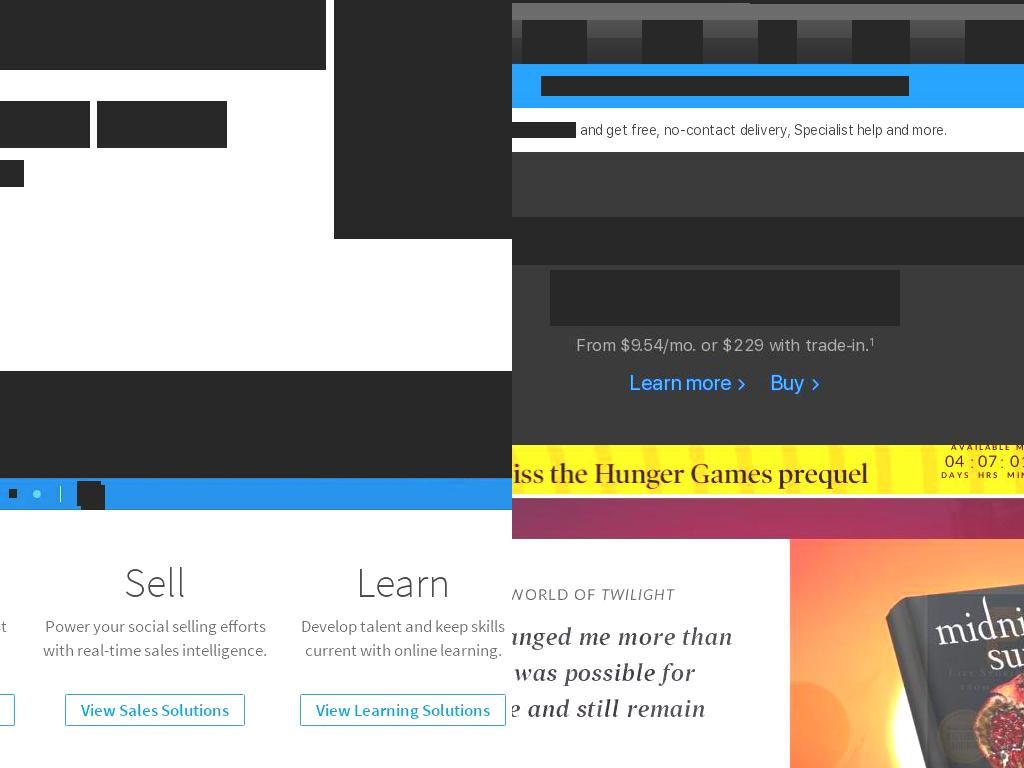button: (512, 497, 1024, 768), (512, 445, 1024, 495), (541, 76, 909, 96), (300, 694, 506, 726), (97, 101, 227, 148), (65, 694, 245, 726), (522, 20, 587, 64), (642, 20, 703, 64), (965, 20, 1024, 64), (852, 20, 910, 64), (758, 20, 797, 64), (0, 160, 24, 187), (77, 481, 101, 506), (9, 489, 17, 498), (33, 489, 41, 498)
field: (0, 101, 90, 148)
heading: (512, 217, 1024, 265), (0, 0, 326, 70), (550, 270, 900, 326), (113, 110, 211, 139)
image: (334, 0, 512, 239), (0, 371, 512, 445), (0, 382, 512, 445), (0, 318, 512, 364), (81, 485, 105, 510)
link: (629, 369, 747, 395), (770, 369, 820, 395), (601, 587, 675, 603), (512, 122, 577, 138), (969, 451, 978, 474), (999, 451, 1008, 474), (869, 335, 875, 348)
text: (0, 510, 512, 768), (512, 267, 1024, 445), (512, 618, 734, 763), (512, 445, 913, 494), (39, 558, 271, 606), (39, 614, 271, 662), (287, 558, 512, 606), (287, 614, 512, 662), (576, 122, 948, 138), (763, 334, 869, 355), (620, 332, 697, 358), (512, 587, 601, 603), (722, 332, 764, 358), (576, 334, 621, 355), (941, 451, 970, 472), (696, 334, 722, 355), (951, 445, 1024, 452), (977, 451, 1000, 472), (1007, 451, 1024, 472), (941, 471, 970, 480), (977, 471, 1000, 480), (1007, 471, 1024, 480)
